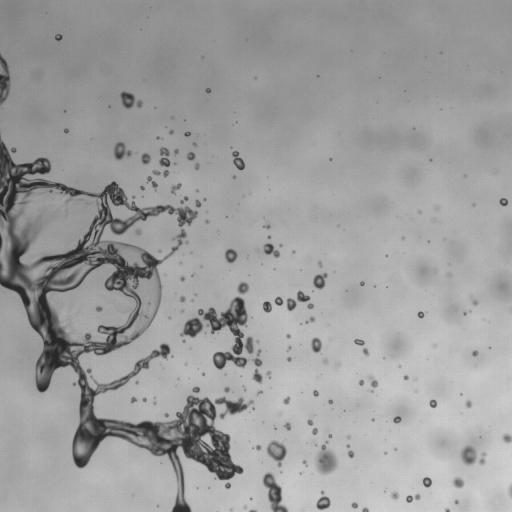droplet: (313, 429, 339, 475), (266, 439, 287, 467), (459, 445, 487, 465), (119, 91, 143, 109), (113, 141, 132, 160), (316, 490, 330, 510), (158, 147, 171, 168), (232, 150, 245, 171), (365, 373, 378, 393), (263, 243, 280, 258), (312, 272, 327, 289), (224, 248, 239, 263), (310, 336, 322, 354), (170, 182, 182, 195), (452, 476, 464, 488), (261, 301, 272, 313), (179, 142, 190, 153), (149, 151, 160, 162), (11, 153, 22, 164), (148, 158, 159, 169), (141, 163, 152, 174), (22, 172, 33, 183), (166, 173, 177, 184), (302, 283, 313, 294), (186, 308, 197, 319), (224, 333, 235, 344), (222, 341, 233, 352), (33, 342, 44, 353), (77, 353, 88, 364), (26, 366, 37, 377), (53, 366, 64, 377), (174, 400, 185, 411), (212, 419, 223, 430), (314, 432, 325, 443), (100, 436, 111, 447), (326, 441, 337, 452), (309, 446, 320, 457), (334, 449, 345, 460), (306, 454, 317, 465), (179, 455, 190, 466), (459, 462, 470, 473), (457, 467, 468, 478), (325, 470, 336, 481), (166, 471, 177, 482), (167, 476, 178, 487), (184, 494, 195, 505), (261, 500, 272, 511), (141, 152, 151, 164), (273, 295, 283, 306), (469, 294, 478, 306), (501, 433, 511, 443), (428, 398, 437, 409), (422, 477, 431, 487), (304, 316, 315, 324), (283, 419, 291, 430), (389, 491, 400, 499), (186, 152, 195, 161), (7, 77, 16, 86), (174, 128, 183, 137), (178, 149, 187, 158), (41, 172, 50, 181), (123, 189, 132, 198), (2, 239, 11, 248), (10, 290, 19, 299), (295, 300, 304, 309), (109, 348, 118, 357), (139, 349, 148, 358), (149, 357, 158, 366), (245, 361, 254, 370), (257, 365, 266, 374), (101, 375, 110, 384), (318, 392, 327, 401), (228, 393, 237, 402), (93, 409, 102, 418), (148, 414, 157, 423), (131, 415, 140, 424), (230, 455, 239, 464), (455, 457, 464, 466), (451, 486, 460, 495), (262, 221, 272, 229), (179, 196, 188, 204), (499, 198, 508, 206), (133, 227, 142, 235), (282, 396, 290, 405), (417, 311, 427, 318), (262, 505, 273, 511), (191, 386, 199, 394), (393, 415, 401, 423), (465, 399, 472, 408), (195, 199, 202, 207), (432, 204, 440, 211), (312, 389, 319, 397), (311, 427, 318, 435), (310, 438, 317, 446), (265, 370, 271, 379), (55, 34, 62, 41), (322, 357, 329, 364), (130, 396, 137, 403), (351, 502, 358, 509), (115, 96, 122, 103), (130, 104, 137, 111), (4, 142, 11, 149), (107, 150, 114, 157), (121, 154, 128, 161), (134, 154, 141, 161), (167, 154, 174, 161), (26, 156, 33, 163), (49, 162, 56, 169), (34, 172, 41, 179), (151, 174, 158, 181), (139, 177, 146, 184), (96, 185, 103, 192), (149, 200, 156, 207), (136, 201, 143, 208), (172, 201, 179, 208), (189, 203, 196, 210), (262, 228, 269, 235), (0, 229, 7, 236), (257, 245, 264, 252), (1, 261, 8, 268), (316, 267, 323, 274), (240, 275, 247, 282), (239, 292, 246, 299), (180, 301, 187, 308), (243, 303, 250, 310), (307, 308, 314, 315), (177, 324, 184, 331), (222, 324, 229, 331), (237, 324, 244, 331), (195, 331, 202, 338), (183, 333, 190, 340), (162, 337, 169, 344), (284, 338, 291, 345), (251, 342, 258, 349), (305, 343, 312, 350), (144, 348, 151, 355), (225, 359, 232, 366), (327, 360, 334, 367), (80, 363, 87, 370), (65, 364, 72, 371), (127, 364, 134, 371), (234, 365, 241, 372), (72, 372, 79, 379), (114, 372, 121, 379), (128, 376, 135, 383), (363, 380, 370, 387), (47, 382, 54, 389), (74, 386, 81, 393), (217, 390, 224, 397), (196, 392, 203, 399), (135, 393, 142, 400), (74, 395, 81, 402), (459, 396, 466, 403), (233, 411, 240, 418), (224, 412, 231, 419), (169, 413, 176, 420), (159, 415, 166, 422), (71, 423, 78, 430), (496, 431, 503, 438), (463, 439, 470, 446), (260, 442, 267, 449), (284, 444, 291, 451), (386, 446, 393, 453), (142, 448, 149, 455), (227, 448, 234, 455), (474, 451, 481, 458), (67, 457, 74, 464), (472, 460, 479, 467), (200, 464, 207, 471), (209, 471, 216, 478), (459, 473, 466, 480), (256, 474, 263, 481), (274, 478, 281, 485), (462, 481, 469, 488), (262, 486, 269, 493), (501, 486, 508, 493), (279, 489, 286, 496), (398, 494, 405, 501), (278, 499, 285, 506), (168, 500, 175, 507), (448, 503, 455, 510), (179, 295, 185, 303), (335, 362, 341, 370), (302, 459, 308, 467), (234, 506, 243, 511), (173, 148, 179, 155), (445, 271, 452, 277), (98, 294, 105, 300), (471, 350, 478, 356), (358, 379, 364, 386), (328, 398, 334, 405), (194, 162, 199, 170), (317, 260, 322, 268), (161, 412, 169, 417), (168, 129, 174, 135), (184, 131, 190, 137), (431, 217, 437, 223), (179, 275, 185, 281), (286, 356, 292, 362), (403, 374, 409, 380), (0, 284, 4, 293), (286, 345, 291, 352), (224, 386, 229, 393), (361, 507, 369, 511), (205, 88, 211, 93), (66, 223, 71, 229), (190, 272, 196, 277), (286, 333, 291, 339), (454, 499, 459, 505), (444, 506, 450, 511), (507, 199, 511, 206), (507, 428, 511, 435), (507, 440, 511, 447), (321, 507, 328, 511), (354, 507, 361, 511), (192, 142, 197, 147), (140, 185, 145, 190), (417, 209, 422, 214), (359, 281, 364, 286), (432, 343, 437, 348), (142, 397, 147, 402), (346, 434, 351, 439), (242, 504, 247, 509), (2, 54, 7, 59), (5, 59, 10, 64), (7, 66, 12, 71), (8, 72, 13, 77), (125, 88, 130, 93), (133, 96, 138, 101), (141, 98, 146, 103), (2, 100, 7, 105), (141, 102, 146, 107), (120, 105, 125, 110), (167, 124, 172, 129), (164, 127, 169, 132), (171, 132, 176, 137), (118, 137, 123, 142), (124, 145, 129, 150), (6, 146, 11, 151), (190, 147, 195, 152), (168, 148, 173, 153), (145, 149, 150, 154), (35, 153, 40, 158), (40, 153, 45, 158), (190, 159, 195, 164), (198, 164, 203, 169), (243, 164, 248, 169), (161, 165, 166, 170), (166, 165, 171, 170), (232, 165, 237, 170), (106, 179, 111, 184), (172, 180, 177, 185), (65, 182, 70, 187), (117, 182, 122, 187), (89, 188, 94, 193), (174, 188, 179, 193), (138, 189, 143, 194), (126, 198, 131, 203), (183, 200, 188, 205), (161, 201, 166, 206), (179, 203, 184, 208), (205, 214, 210, 219), (191, 218, 196, 223), (261, 219, 266, 224), (182, 222, 187, 227), (180, 236, 185, 241), (266, 238, 271, 243), (178, 244, 183, 249), (226, 244, 231, 249), (231, 245, 236, 250), (272, 245, 277, 250), (220, 249, 225, 254), (235, 249, 240, 254), (268, 252, 273, 257), (166, 256, 171, 261), (221, 256, 226, 261), (234, 257, 239, 262), (312, 260, 317, 265), (321, 260, 326, 265), (158, 273, 163, 278), (175, 274, 180, 279), (184, 274, 189, 279), (309, 274, 314, 279), (323, 277, 328, 282), (177, 280, 182, 285), (233, 283, 238, 288), (321, 286, 326, 291), (160, 287, 165, 292), (314, 287, 319, 292), (303, 290, 308, 295), (181, 291, 186, 296), (175, 294, 180, 299), (473, 294, 478, 299), (292, 295, 297, 300), (184, 297, 189, 302), (159, 299, 164, 304), (303, 300, 308, 305), (270, 301, 275, 306), (476, 302, 481, 307), (158, 303, 163, 308), (258, 304, 263, 309), (312, 304, 317, 309), (469, 304, 474, 309), (203, 307, 208, 312), (292, 307, 297, 312), (156, 309, 161, 314), (22, 312, 27, 317), (313, 314, 318, 319), (152, 317, 157, 322), (245, 319, 250, 324), (25, 321, 30, 326), (30, 328, 35, 333), (287, 329, 292, 334), (290, 333, 295, 338), (315, 333, 320, 338), (281, 334, 286, 339), (177, 336, 182, 341), (134, 337, 139, 342), (240, 337, 245, 342), (362, 343, 367, 348), (121, 344, 126, 349), (168, 344, 173, 349), (358, 344, 363, 349), (471, 345, 476, 350), (319, 346, 324, 351), (367, 348, 372, 353), (88, 350, 93, 355), (467, 350, 472, 355), (286, 351, 291, 356), (314, 351, 319, 356), (359, 352, 364, 357), (476, 352, 481, 357), (257, 354, 262, 359), (33, 355, 38, 360), (471, 355, 476, 360), (134, 356, 139, 361), (209, 361, 214, 366), (211, 365, 216, 370), (140, 367, 145, 372), (198, 367, 203, 372), (90, 369, 95, 374), (401, 370, 406, 375), (121, 371, 126, 376), (270, 372, 275, 377), (407, 373, 412, 378), (373, 375, 378, 380), (407, 376, 412, 381), (376, 378, 381, 383), (353, 379, 358, 384), (253, 380, 258, 385), (193, 381, 198, 386), (225, 382, 230, 387), (32, 385, 37, 390), (116, 386, 121, 391), (373, 386, 378, 391), (105, 389, 110, 394), (192, 392, 197, 397), (281, 393, 286, 398), (93, 394, 98, 399), (126, 395, 131, 400), (155, 397, 160, 402), (209, 397, 214, 402), (278, 397, 283, 402), (146, 398, 151, 403), (288, 398, 293, 403), (435, 398, 440, 403), (242, 399, 247, 404), (470, 399, 475, 404), (182, 400, 187, 405), (252, 401, 257, 406), (284, 403, 289, 408), (470, 403, 475, 408), (246, 405, 251, 410), (433, 406, 438, 411), (178, 407, 183, 412), (391, 412, 396, 417), (214, 415, 219, 420), (311, 417, 316, 422), (289, 422, 294, 427), (308, 425, 313, 430), (281, 426, 286, 431), (323, 434, 328, 439), (327, 437, 332, 442), (276, 438, 281, 443), (228, 439, 233, 444), (346, 439, 351, 444), (251, 441, 256, 446), (130, 443, 135, 448), (325, 443, 330, 448), (316, 445, 321, 450), (349, 445, 354, 450), (343, 447, 348, 452), (484, 448, 489, 453), (352, 449, 357, 454), (163, 453, 168, 458), (344, 454, 349, 459), (352, 454, 357, 459), (483, 455, 488, 460), (280, 458, 285, 463), (272, 459, 277, 464), (168, 465, 173, 470), (182, 471, 187, 476), (183, 477, 188, 482), (227, 477, 232, 482), (222, 478, 227, 483), (429, 483, 434, 488), (425, 486, 430, 491), (386, 490, 391, 495), (323, 491, 328, 496), (316, 493, 321, 498), (328, 496, 333, 501), (352, 497, 357, 502), (457, 497, 462, 502), (390, 498, 395, 503), (411, 498, 416, 503), (329, 500, 334, 505), (311, 502, 316, 507), (247, 504, 252, 509), (367, 506, 372, 511), (156, 249, 162, 253), (0, 66, 3, 73), (64, 128, 68, 133), (232, 174, 236, 179), (204, 219, 209, 223), (400, 236, 405, 240), (291, 250, 295, 255), (134, 380, 139, 384), (413, 389, 418, 393), (277, 411, 282, 415), (463, 174, 467, 178), (195, 188, 199, 192), (202, 197, 206, 201), (471, 203, 475, 207), (267, 235, 271, 239), (278, 243, 282, 247), (178, 261, 182, 265), (199, 264, 203, 268), (193, 293, 197, 297), (190, 298, 194, 302), (180, 309, 184, 313), (201, 372, 205, 376), (413, 376, 417, 380), (273, 425, 277, 429), (393, 447, 397, 451), (229, 507, 233, 511), (463, 310, 466, 315), (166, 316, 171, 319), (154, 508, 159, 511), (244, 508, 249, 511), (440, 508, 445, 511), (449, 508, 454, 511), (412, 126, 415, 130), (329, 157, 332, 161), (173, 162, 177, 165), (336, 224, 340, 227), (255, 248, 259, 251), (447, 262, 451, 265), (163, 273, 167, 276), (468, 309, 471, 313), (184, 362, 187, 366), (398, 364, 401, 368), (0, 187, 2, 192), (439, 51, 442, 54), (316, 74, 319, 77), (254, 76, 257, 79), (63, 109, 66, 112), (134, 151, 137, 154), (429, 158, 432, 161), (443, 237, 446, 240), (427, 240, 430, 243), (190, 251, 193, 254), (385, 254, 388, 257), (299, 322, 302, 325), (488, 346, 491, 349), (382, 356, 385, 359), (224, 373, 227, 376), (177, 377, 180, 380), (459, 393, 462, 396), (343, 409, 346, 412), (371, 418, 374, 421), (384, 451, 387, 454), (249, 497, 252, 500), (156, 504, 159, 507), (59, 31, 62, 34), (59, 38, 62, 41), (54, 39, 57, 42), (316, 71, 319, 74), (206, 84, 209, 87), (203, 91, 206, 94), (208, 91, 211, 94), (63, 106, 66, 109), (106, 107, 109, 110), (60, 110, 63, 113), (64, 111, 67, 114), (180, 118, 183, 121), (237, 120, 240, 123), (233, 122, 236, 125), (67, 127, 70, 130), (187, 128, 190, 131), (60, 129, 63, 132), (173, 129, 176, 132), (181, 131, 184, 134), (190, 131, 193, 134), (65, 132, 68, 135), (153, 134, 156, 137), (158, 134, 161, 137), (183, 135, 186, 138), (187, 135, 190, 138), (157, 138, 160, 141), (195, 140, 198, 143), (162, 144, 165, 147), (175, 145, 178, 148), (15, 147, 18, 150), (231, 148, 234, 151), (236, 148, 239, 151), (329, 154, 332, 157), (428, 155, 431, 158), (431, 157, 434, 160), (331, 158, 334, 161), (326, 159, 329, 162), (428, 161, 431, 164), (169, 162, 172, 165), (195, 169, 198, 172), (166, 174, 169, 177), (229, 174, 232, 177), (144, 178, 147, 181), (230, 178, 233, 181), (115, 180, 118, 183), (179, 185, 182, 188), (137, 186, 140, 189), (155, 186, 158, 189), (168, 187, 171, 190), (198, 188, 201, 191), (205, 196, 208, 199), (199, 199, 202, 202), (498, 203, 501, 206), (502, 205, 505, 208), (224, 212, 227, 215), (224, 217, 227, 220), (205, 223, 208, 226), (269, 223, 272, 226), (263, 227, 266, 230), (268, 227, 271, 230), (426, 236, 429, 239), (424, 240, 427, 243), (429, 240, 432, 243), (292, 246, 295, 249), (288, 249, 291, 252), (383, 251, 386, 254), (292, 253, 295, 256), (387, 253, 390, 256), (381, 254, 384, 257), (385, 256, 388, 259), (189, 271, 192, 274), (193, 274, 196, 277), (358, 278, 361, 281), (356, 281, 359, 284), (371, 282, 374, 285), (375, 284, 378, 287), (382, 284, 385, 287), (387, 284, 390, 287), (360, 285, 363, 288), (372, 287, 375, 290), (385, 287, 388, 290), (276, 293, 279, 296), (160, 295, 163, 298), (192, 295, 195, 298), (273, 295, 276, 298), (265, 298, 268, 301), (417, 308, 420, 311), (261, 309, 264, 312), (465, 309, 468, 312), (166, 312, 169, 315), (414, 312, 417, 315), (460, 312, 463, 315), (466, 312, 469, 315), (170, 314, 173, 317), (415, 315, 418, 318), (422, 315, 425, 318), (165, 317, 168, 320), (418, 317, 421, 320), (301, 320, 304, 323), (307, 321, 310, 324), (304, 323, 307, 326), (298, 324, 301, 327), (148, 325, 151, 328), (358, 336, 361, 339), (351, 337, 354, 340), (489, 343, 492, 346), (284, 346, 287, 349), (290, 346, 293, 349), (488, 348, 491, 351), (290, 358, 293, 361), (285, 360, 288, 363), (395, 363, 398, 366), (196, 364, 199, 367), (198, 372, 201, 375), (204, 372, 207, 375), (201, 375, 204, 378), (179, 376, 182, 379), (400, 376, 403, 379), (404, 379, 407, 382), (136, 383, 139, 386), (197, 384, 200, 387), (358, 385, 361, 388), (240, 387, 243, 390), (316, 388, 319, 391), (461, 390, 464, 393), (368, 391, 371, 394), (258, 392, 261, 395), (456, 392, 459, 395), (310, 393, 313, 396), (327, 396, 330, 399), (432, 396, 435, 399), (332, 398, 335, 401), (133, 401, 136, 404), (142, 401, 145, 404), (325, 401, 328, 404), (328, 403, 331, 406), (427, 404, 430, 407), (254, 406, 257, 409), (467, 407, 470, 410), (339, 408, 342, 411), (345, 408, 348, 411), (341, 411, 344, 414), (369, 415, 372, 418), (400, 416, 403, 419), (374, 417, 377, 420), (369, 420, 372, 423), (397, 421, 400, 424), (274, 424, 277, 427), (270, 425, 273, 428), (290, 426, 293, 429), (271, 428, 274, 431), (287, 429, 290, 432), (331, 433, 334, 436), (313, 434, 316, 437), (248, 446, 251, 449), (396, 446, 399, 449), (384, 448, 387, 451), (391, 449, 394, 452), (394, 450, 397, 453), (380, 451, 383, 454), (385, 453, 388, 456), (299, 458, 302, 461), (301, 463, 304, 466), (296, 473, 299, 476), (300, 473, 303, 476), (423, 474, 426, 477), (427, 474, 430, 477), (419, 479, 422, 482), (198, 486, 201, 489), (204, 486, 207, 489), (321, 487, 324, 490), (208, 488, 211, 491), (380, 489, 383, 492), (251, 495, 254, 498), (506, 495, 509, 498), (246, 497, 249, 500), (451, 500, 454, 503), (408, 501, 411, 504), (158, 502, 161, 505), (153, 503, 156, 506), (348, 503, 351, 506), (108, 104, 110, 108), (201, 56, 204, 58), (171, 116, 173, 119), (230, 146, 233, 148), (225, 216, 228, 218), (261, 262, 263, 265), (299, 269, 302, 271), (482, 318, 485, 320), (162, 366, 164, 369), (331, 408, 334, 410), (479, 435, 481, 438), (196, 486, 198, 489), (208, 486, 210, 489), (226, 509, 229, 511), (154, 106, 156, 108), (440, 108, 442, 110), (235, 121, 237, 123), (165, 125, 167, 127), (141, 195, 143, 197), (273, 268, 275, 270), (248, 274, 250, 276), (373, 285, 375, 287), (345, 289, 347, 291), (312, 290, 314, 292), (240, 375, 242, 377), (280, 471, 282, 473), (184, 119, 185, 121), (268, 189, 270, 190), (384, 490, 385, 492), (386, 286, 387, 287), (261, 461, 262, 462)
ligament: (0, 52, 12, 109), (354, 337, 369, 356), (146, 176, 157, 192), (152, 169, 169, 177), (405, 493, 420, 502), (346, 444, 354, 458), (307, 414, 315, 426), (251, 444, 263, 451), (507, 482, 511, 498), (255, 390, 263, 396), (156, 136, 163, 140), (242, 384, 246, 391), (153, 396, 156, 405), (299, 471, 305, 475), (246, 254, 249, 260), (188, 345, 191, 351), (248, 509, 257, 511), (160, 462, 164, 464), (263, 216, 264, 219), (262, 420, 263, 423)
